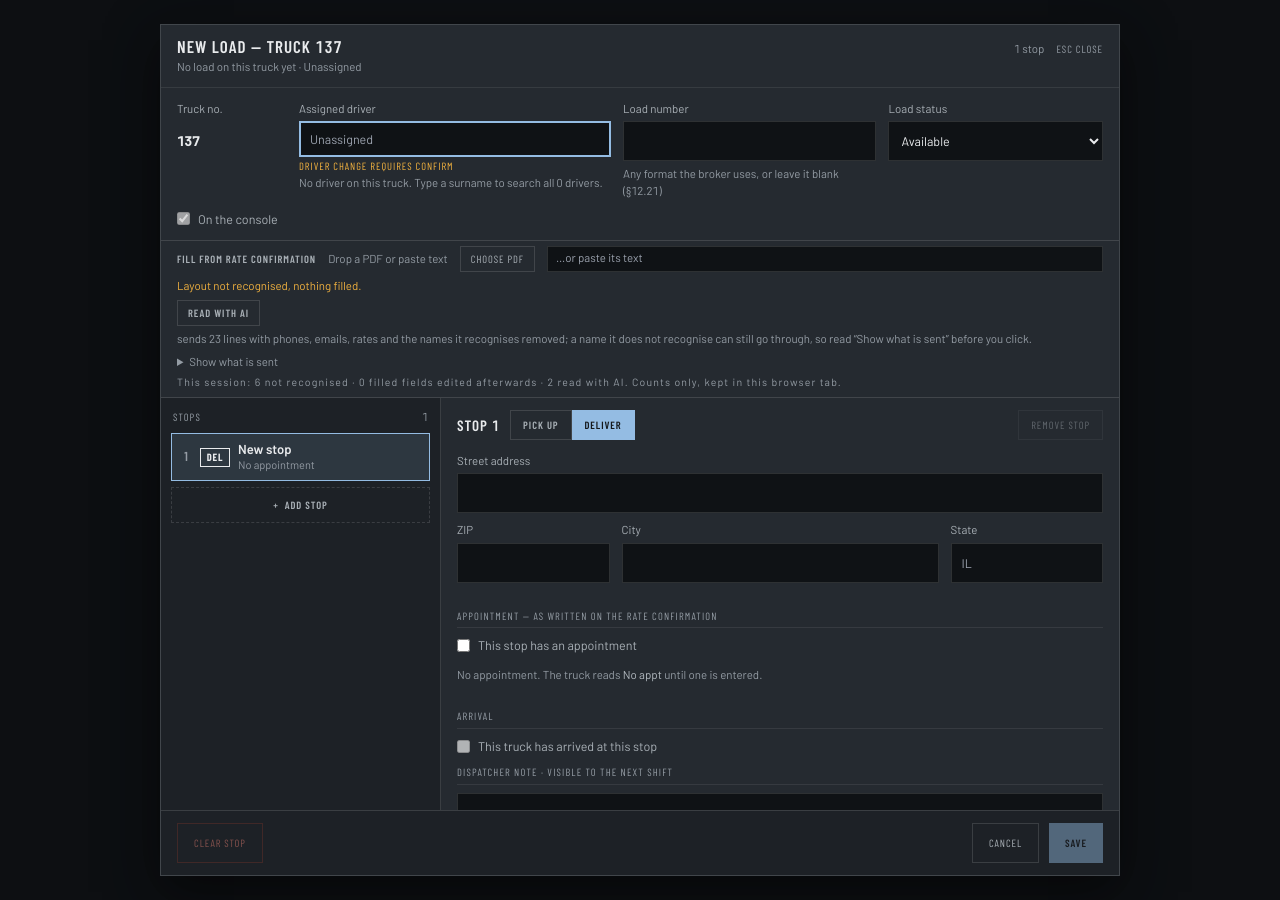
Test case: a read is a pair of reads, merged by agreement › the old single-read answer is not filled from: { ok: true, read } is unusable
Click the button "Read with AI".
click(219, 313)  # box [177,300,260,326]
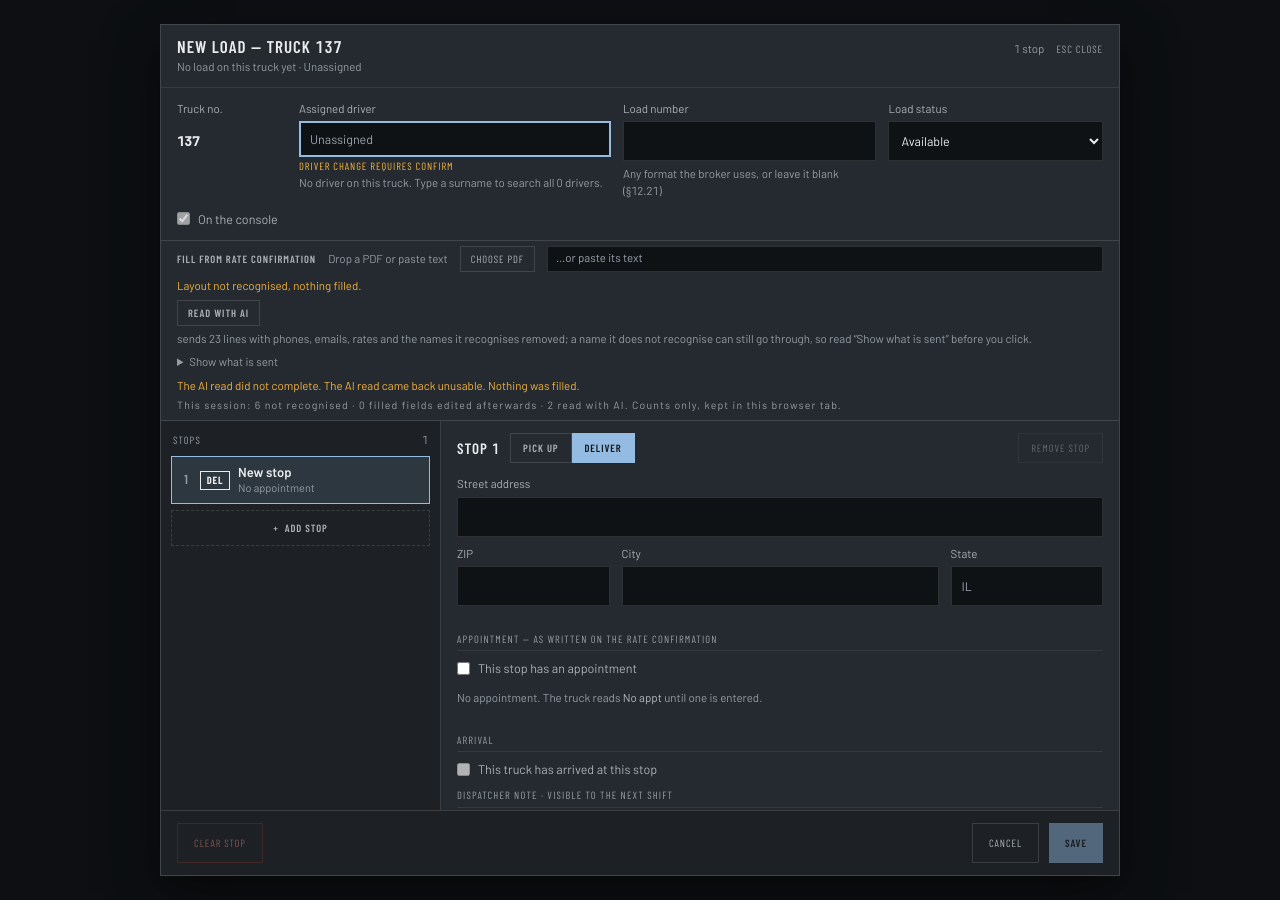
Expected: the 1st field is empty, [623,121,876,161]
Result: the text "The AI read did not complete. The AI read came back unusable. Nothing was filled." is shown at [177,378,580,392]
